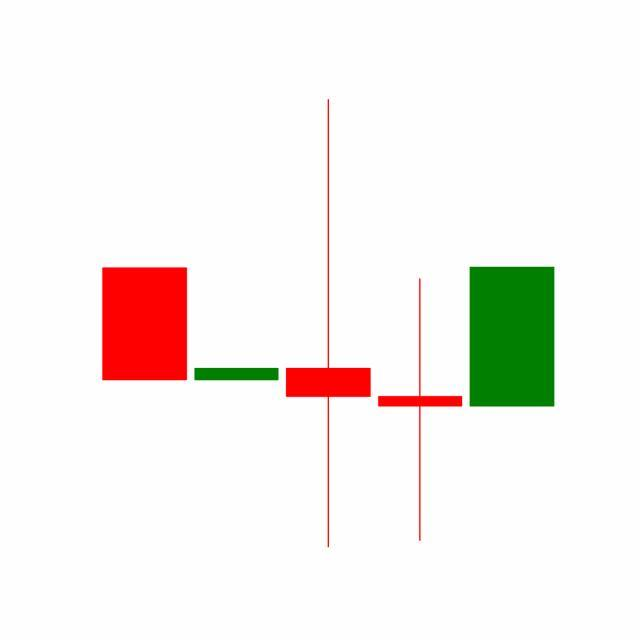Spinning Top: (374, 276, 468, 545)
